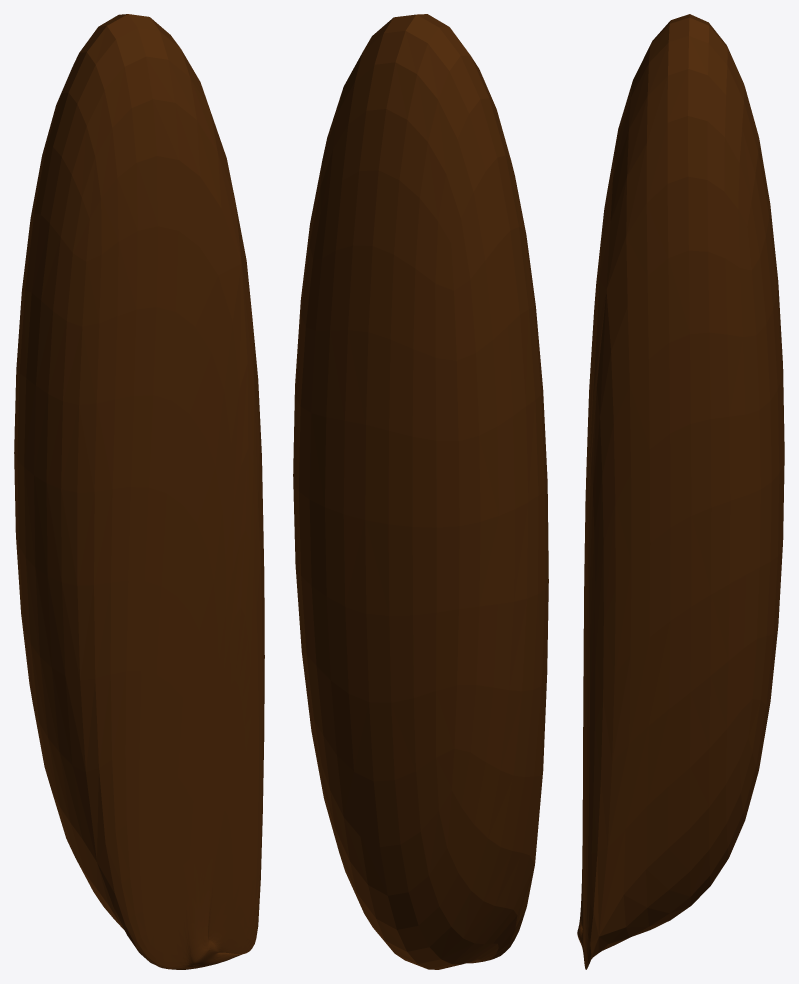
3 views of the same model, side by side, from view 1: azimuth 30°, elevation 25°; view 2: azimuth 150°, elevation 25°; view 3: azimuth 270°, elevation 25° (orthographic). The views are drawn at different scales.
Parts seen in each view (by area): view 1: 242_Cube.995; view 2: 242_Cube.995; view 3: 242_Cube.995.
Boxes of the visible parts, box(x1,y1,x2,y2) form: 242_Cube.995: box(14, 14, 264, 969); 242_Cube.995: box(293, 14, 548, 969); 242_Cube.995: box(577, 14, 784, 969).
Size of the model in its own units: 2.61 by 10.97 by 2.23.
